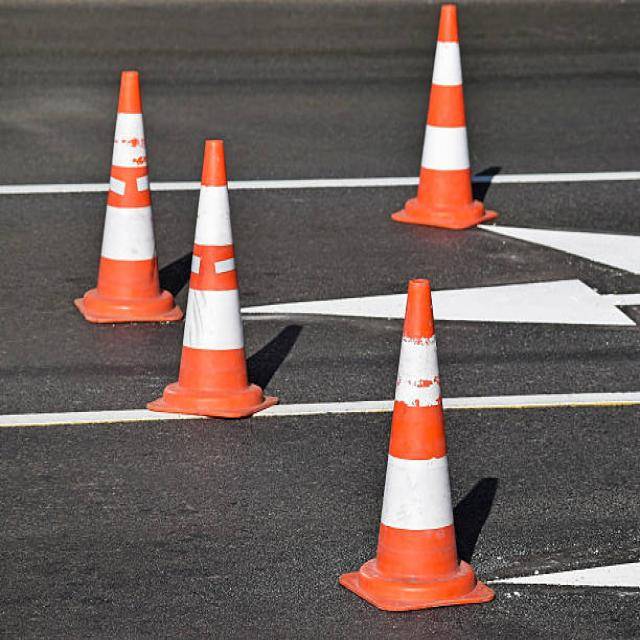Traffic Cone: (319, 254, 514, 623), (145, 122, 285, 438), (60, 40, 188, 338), (369, 0, 507, 240)
